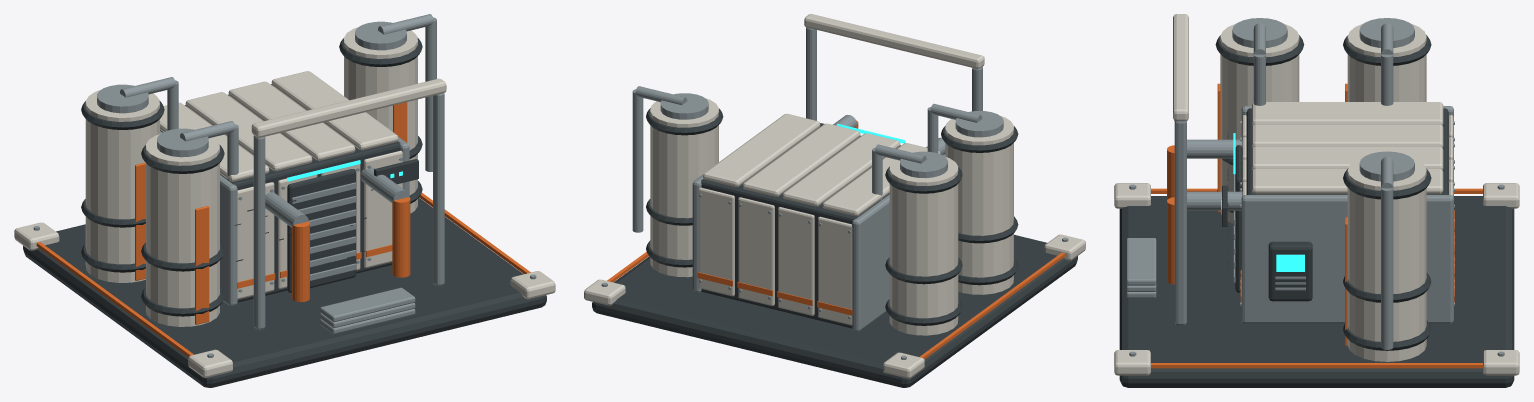
File: SM_DecontaminationBay_Body.001.fbx
The picture shows the model from 3 angles, left to right: view 1: azimuth 30°, elevation 25°; view 2: azimuth 150°, elevation 25°; view 3: azimuth 270°, elevation 25°; orthographic projection. The views are drawn at different scales.
Parts seen in each view (by area): view 1: SM_DecontaminationBay_Body.001; view 2: SM_DecontaminationBay_Body.001; view 3: SM_DecontaminationBay_Body.001.
Part boxes in pixels (box(x1,y1,x2,y2)): SM_DecontaminationBay_Body.001: box(14, 14, 555, 387); SM_DecontaminationBay_Body.001: box(584, 14, 1085, 387); SM_DecontaminationBay_Body.001: box(1114, 14, 1519, 387).
Bounding box in the file's own units: 503 × 462 × 303.
